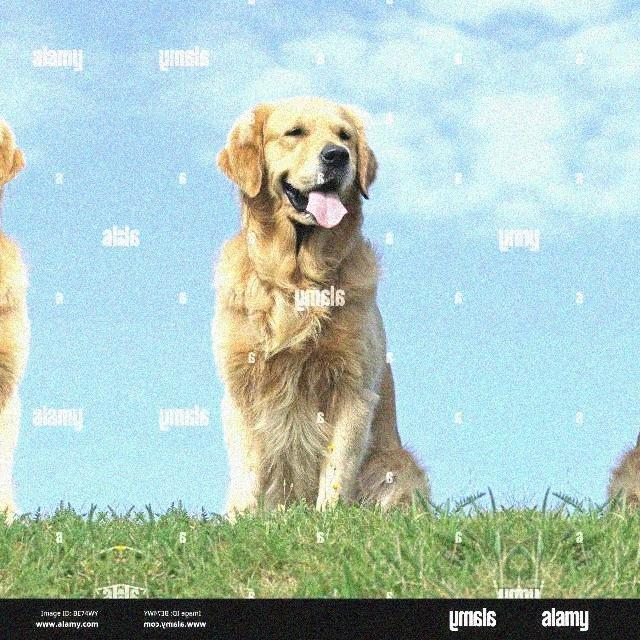dog: (202, 66, 408, 556), (0, 66, 41, 556), (632, 66, 640, 556)
